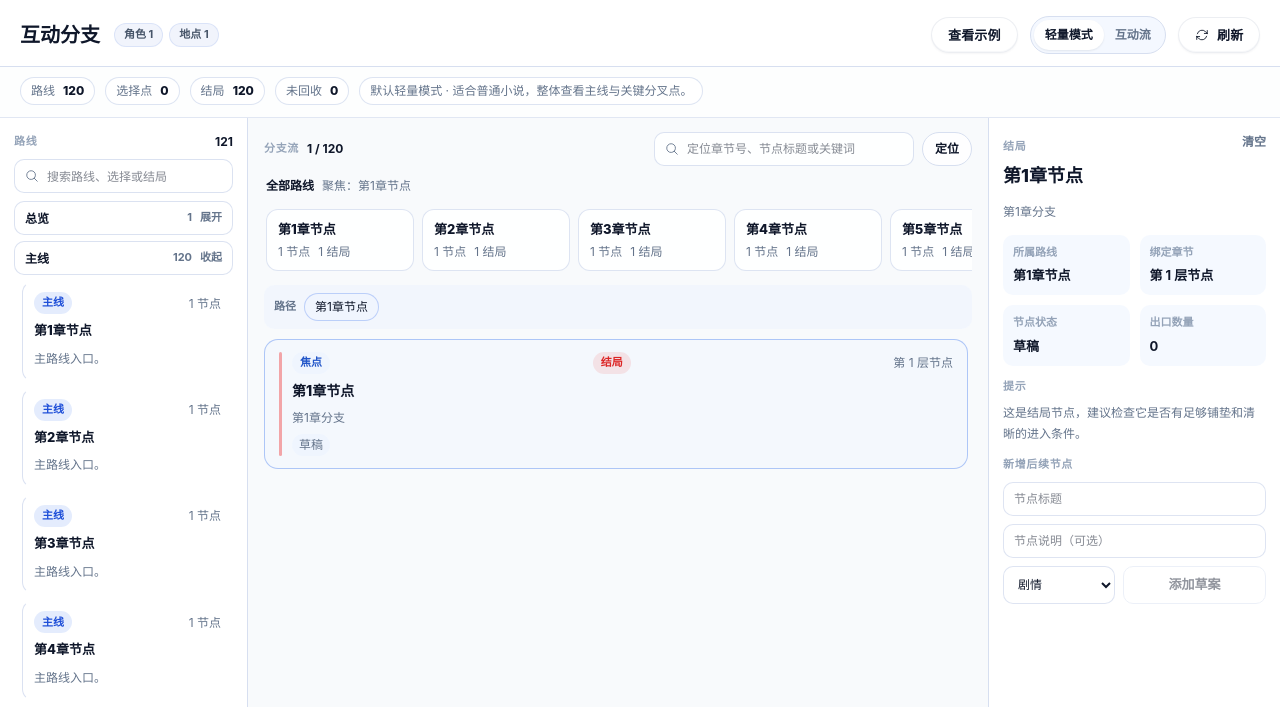
Test: StoryBranchView › 长篇互动分支视图应支持路线定位与节点聚焦
The image size is (1280, 707).
In the field with placeholder "定位章节号、节点标题或关键词": (795, 149) x1=687 y1=139 x2=903 y2=159, type "第115章节点"
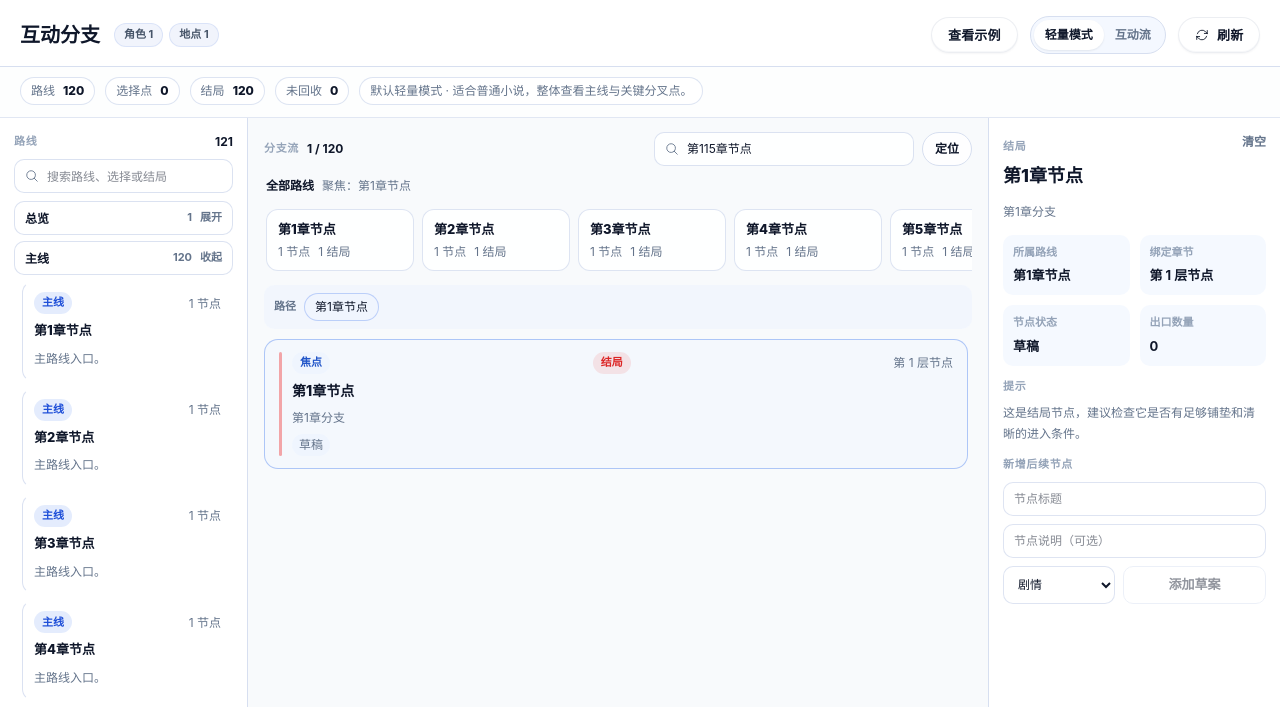
Click the button "定位": (947, 149) x1=922 y1=132 x2=972 y2=166
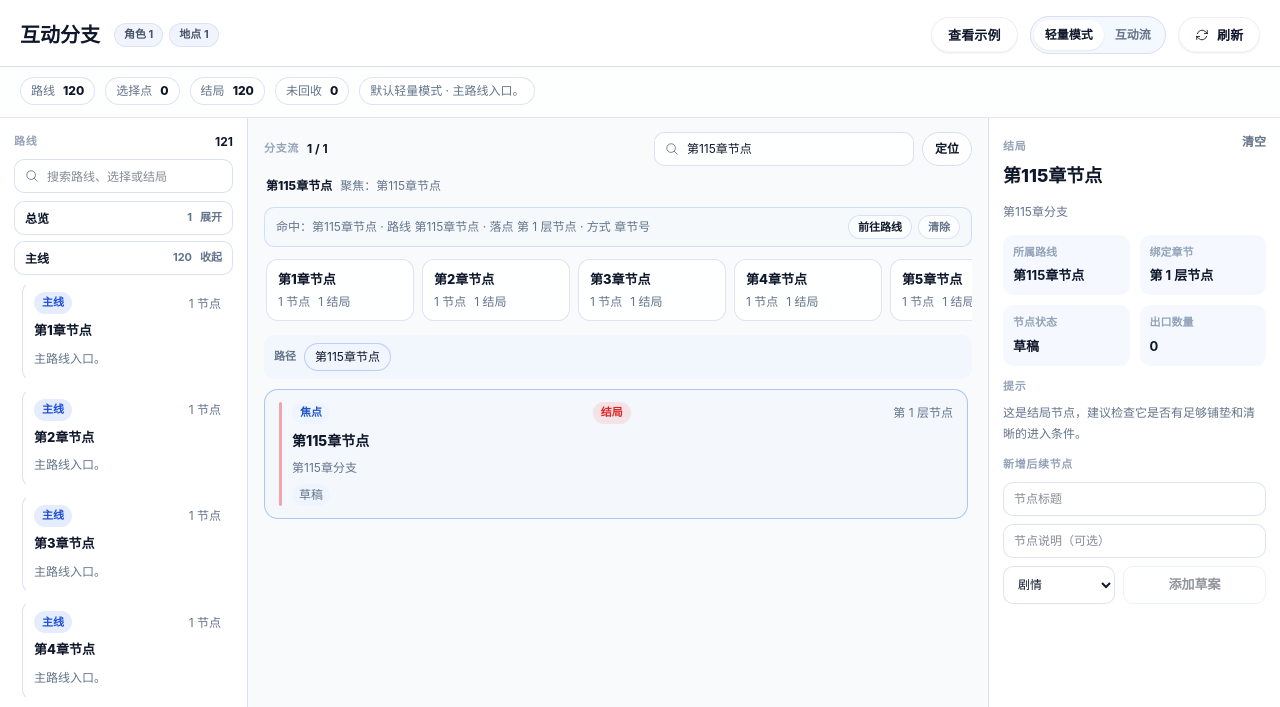
Expected: the element with test id "branch-locate-feedback" shows "命中：第115章节点", x1=276 y1=219 x2=650 y2=234
